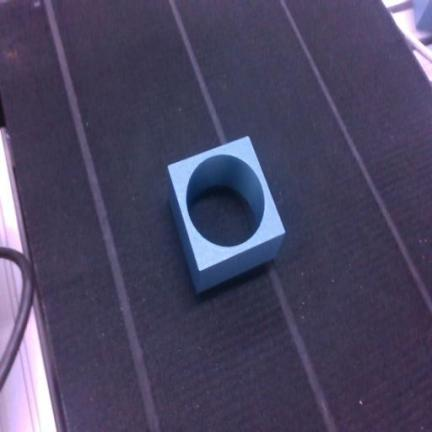hole: (168, 137, 285, 291)
